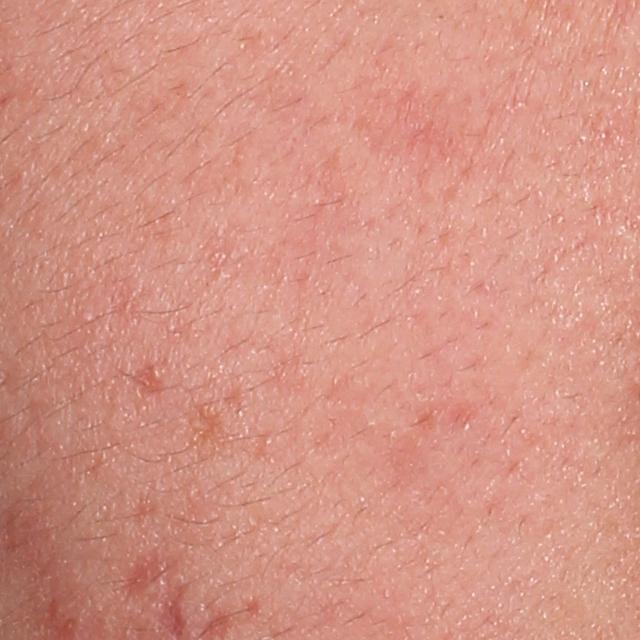atrophic_scar: (115, 542, 162, 616), (125, 360, 167, 402)
